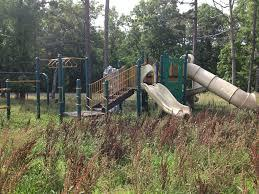overgrown grass: (0, 108, 258, 193)
